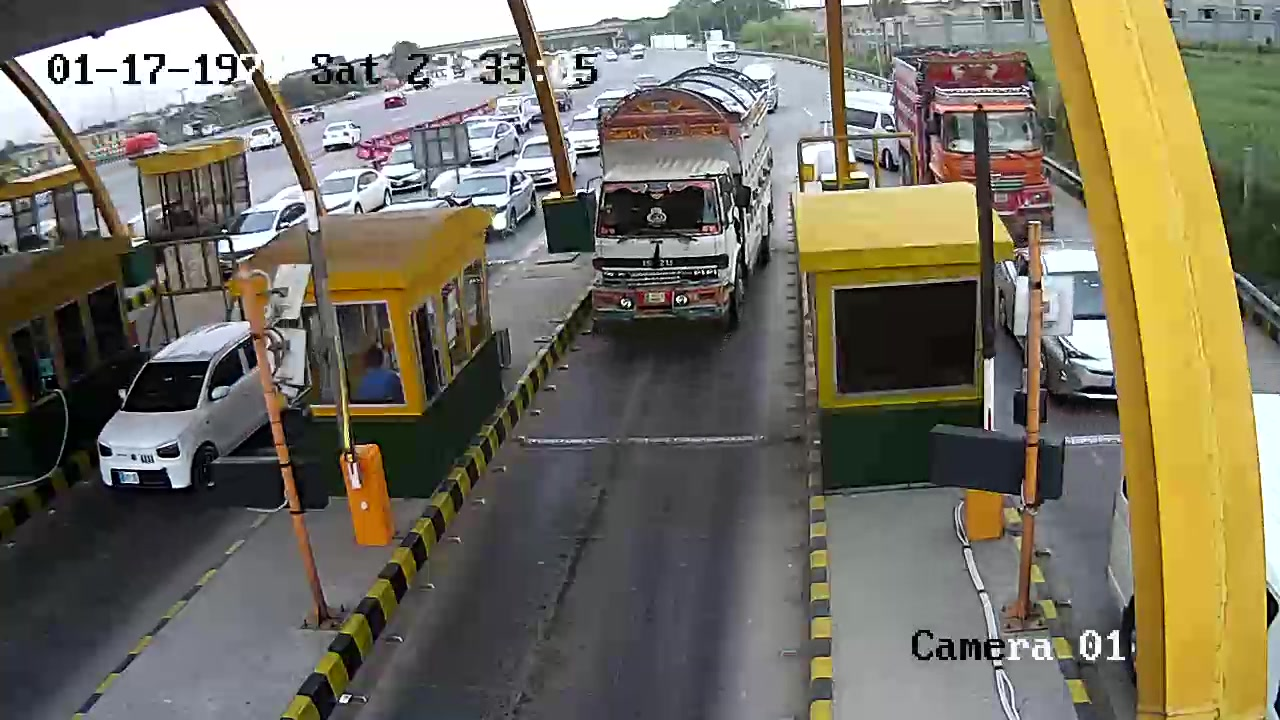F5: (575, 62, 777, 335)
